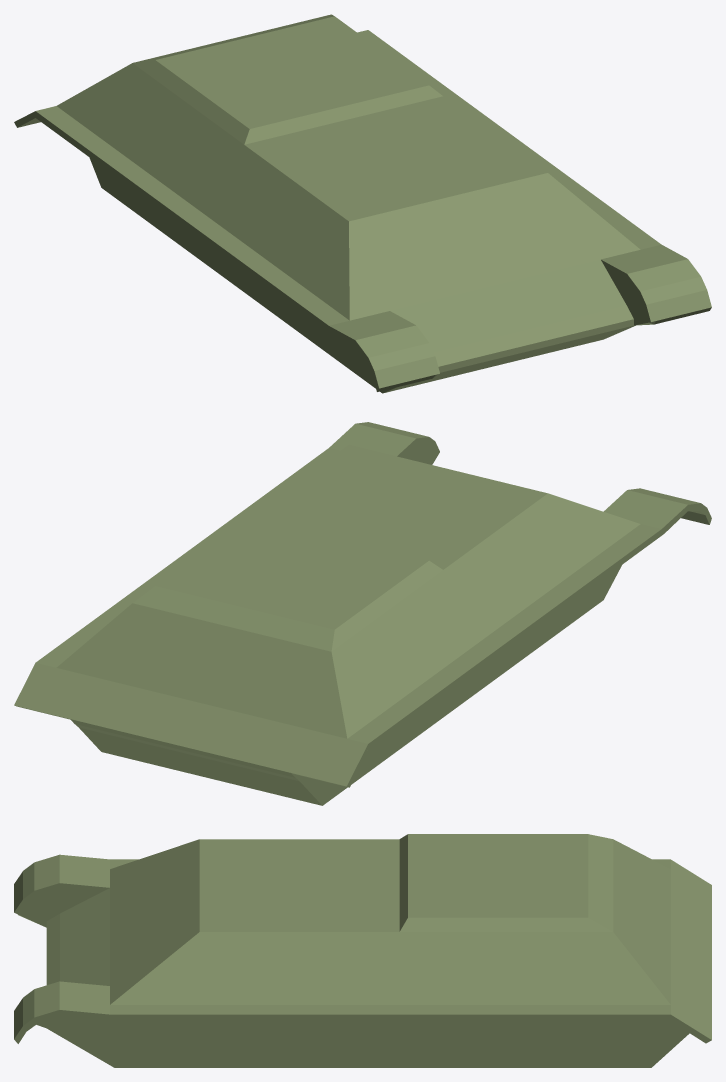
Rendered from T-34 Body.fbx.
3 renders of one model, top to bottom at view 1: azimuth 30°, elevation 25°; view 2: azimuth 150°, elevation 25°; view 3: azimuth 270°, elevation 25°, orthographic. The views are drawn at different scales.
Parts seen in each view (by area): view 1: Body; view 2: Body; view 3: Body.
Boxes of the visible parts, x1,y1,x2,y2 form: Body: [14, 14, 711, 393]; Body: [14, 422, 711, 805]; Body: [14, 834, 711, 1067].
Bounding box in the file's own units: 6.07 × 2.56 × 11.54.
